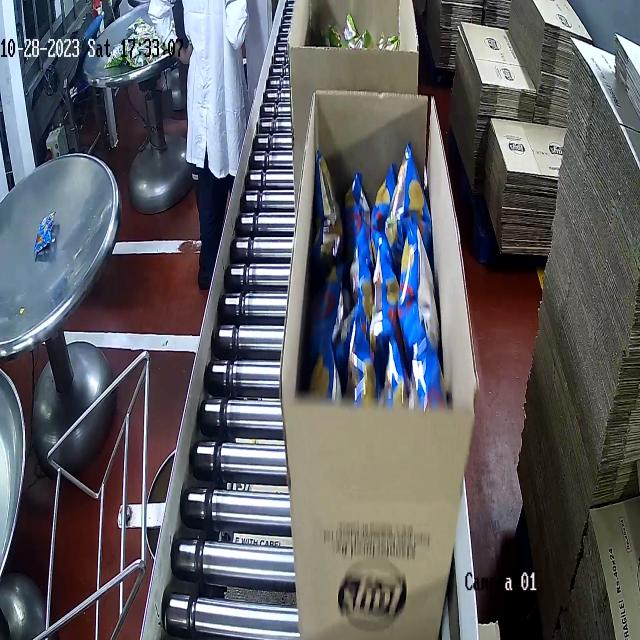PAPRIKA: (304, 152, 449, 411)
